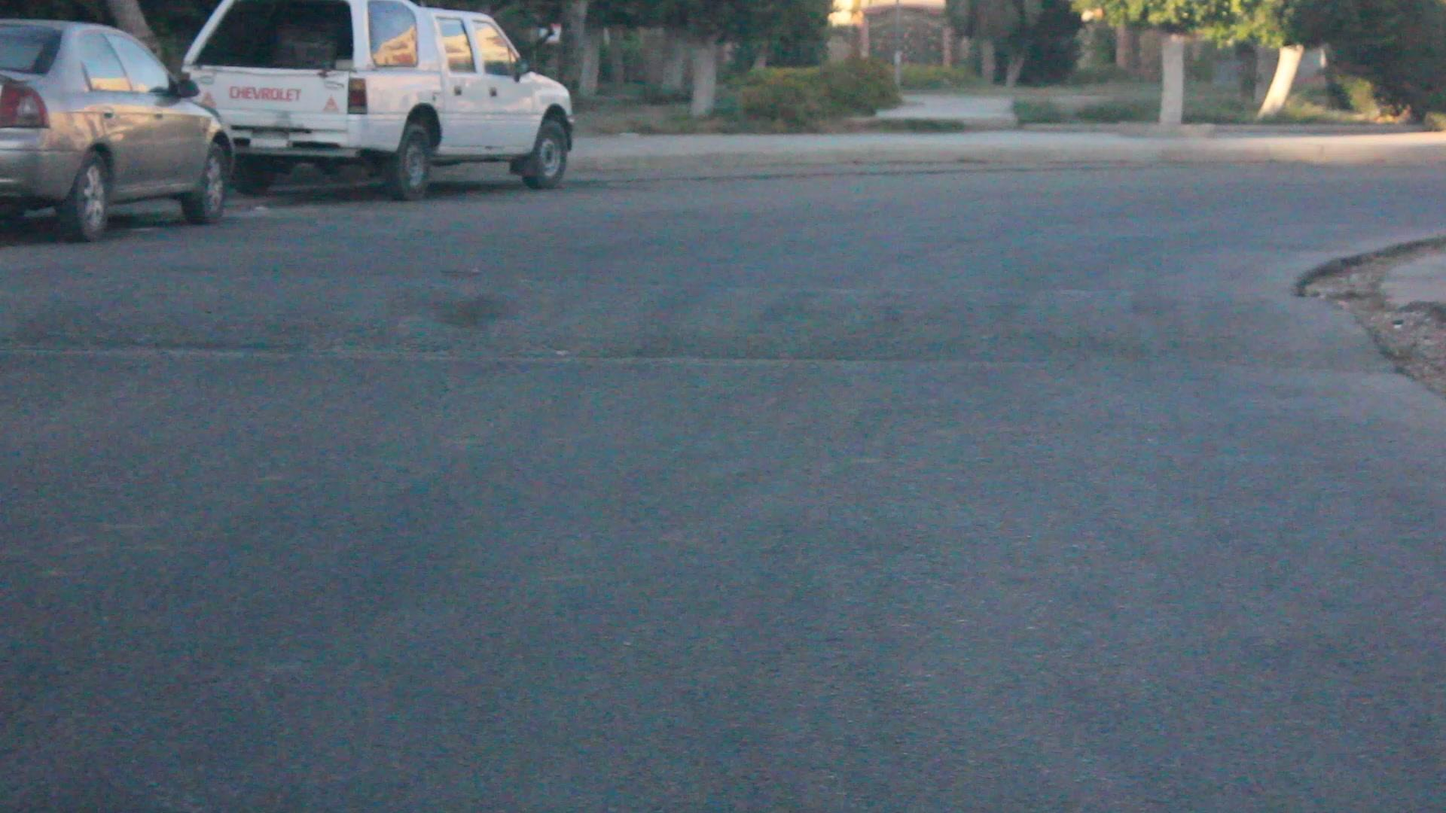Bump: (6, 284, 1374, 380)
